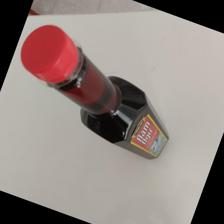Namngu: (18, 24, 171, 160)
